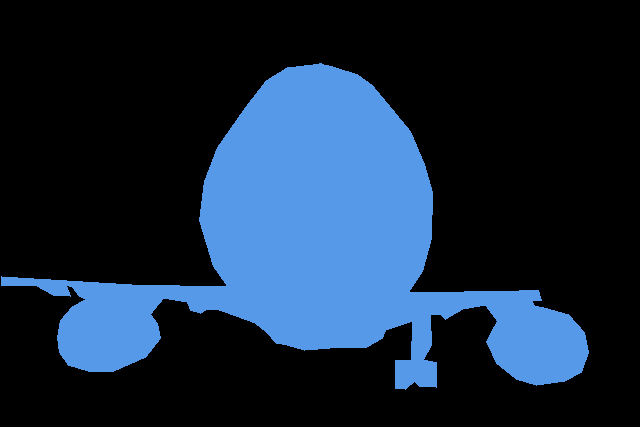Airplane: (1, 63, 588, 390)
